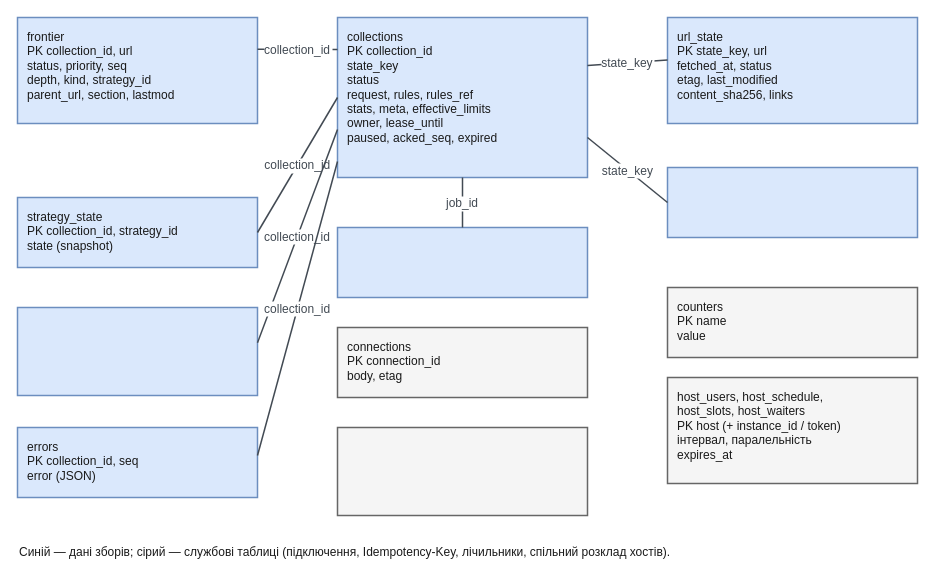
This 936x585 diagram has some shape labels left out. Each missing label, with the centre of its shape:
"idempotency PK key fingerprint, state expires_at, response" goes at (x=462, y=471).
"jobs PK job_id = collection_id body (JSON)" goes at (x=462, y=262).
"materials PK collection_id, seq observation_id material (JSON)" goes at (x=137, y=351).
"state_cursors PK state_key, strategy_id cursor, updated_at" goes at (x=792, y=202).
